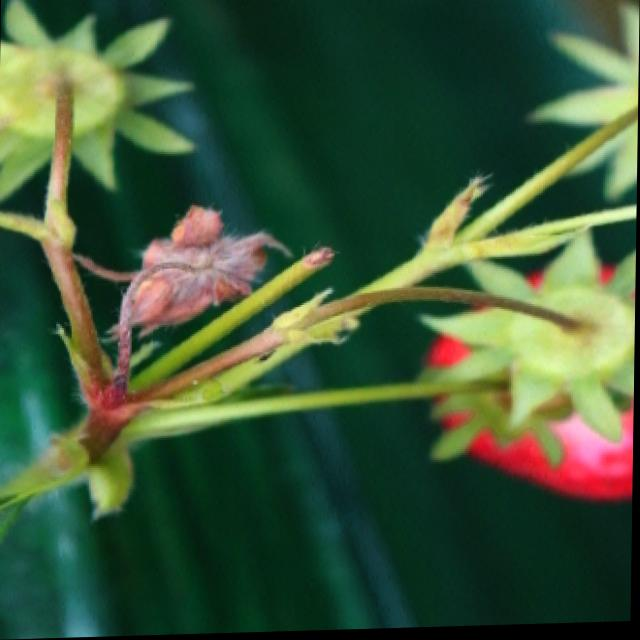Gray Mold: (73, 205, 295, 384)
